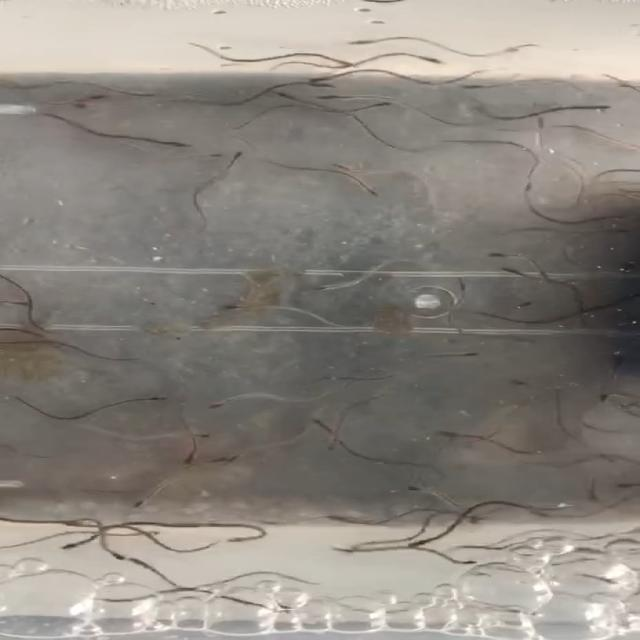active_glass_eel: (397, 468, 445, 502), (417, 422, 479, 448), (452, 327, 492, 365), (496, 288, 552, 314), (473, 236, 529, 262), (195, 393, 253, 416), (203, 530, 268, 550), (388, 535, 442, 559), (66, 84, 116, 108), (167, 446, 217, 469), (324, 504, 360, 534), (321, 56, 376, 74), (438, 271, 483, 293), (496, 268, 548, 287), (214, 297, 254, 321), (318, 92, 356, 117), (310, 429, 348, 454), (317, 153, 363, 173), (56, 535, 106, 553), (138, 386, 176, 409), (164, 136, 193, 165), (262, 80, 295, 104), (508, 370, 542, 393), (296, 279, 336, 298), (420, 49, 456, 70), (454, 78, 498, 95), (511, 110, 554, 127), (209, 149, 262, 162), (364, 186, 396, 202), (348, 36, 382, 51), (374, 98, 404, 111), (304, 76, 332, 88)
